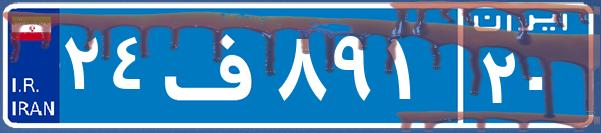0: (525, 38, 570, 115)
1: (385, 28, 445, 110)
2: (57, 26, 110, 107), (475, 38, 525, 113)
4: (110, 28, 158, 105)
8: (273, 28, 330, 110)
9: (330, 28, 385, 110)
ف: (158, 15, 273, 115)
